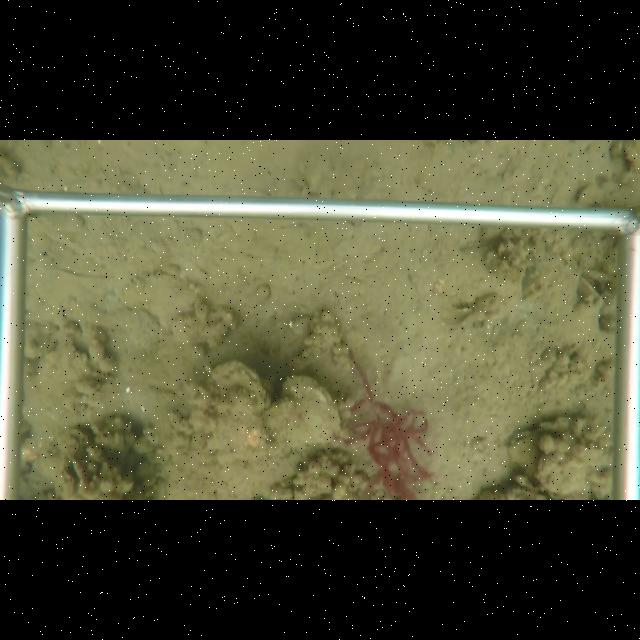Oyster-Closed: (200, 358, 268, 454), (264, 374, 340, 452)
Oyster-Open: (504, 428, 544, 476)
